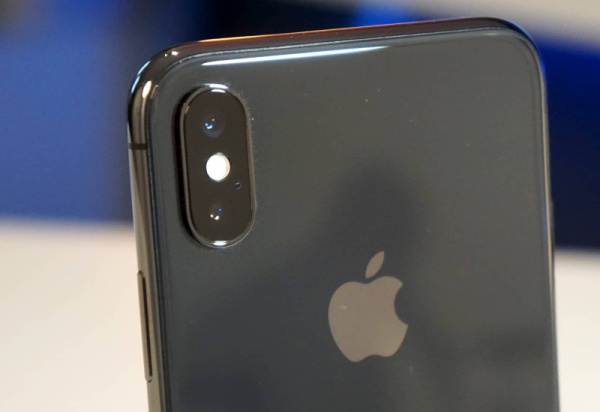apple: (307, 219, 420, 383)
